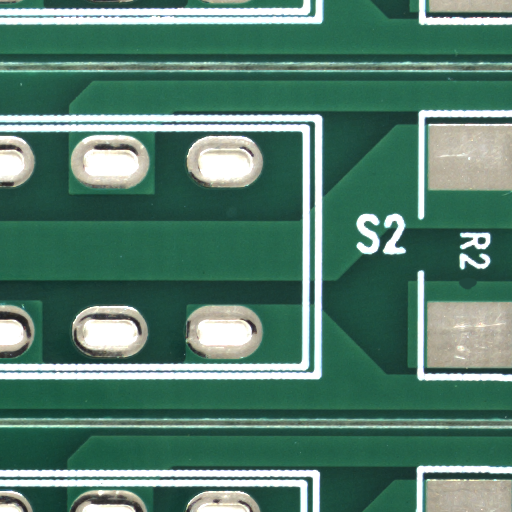Mouse_bite: (467, 283, 486, 294)
